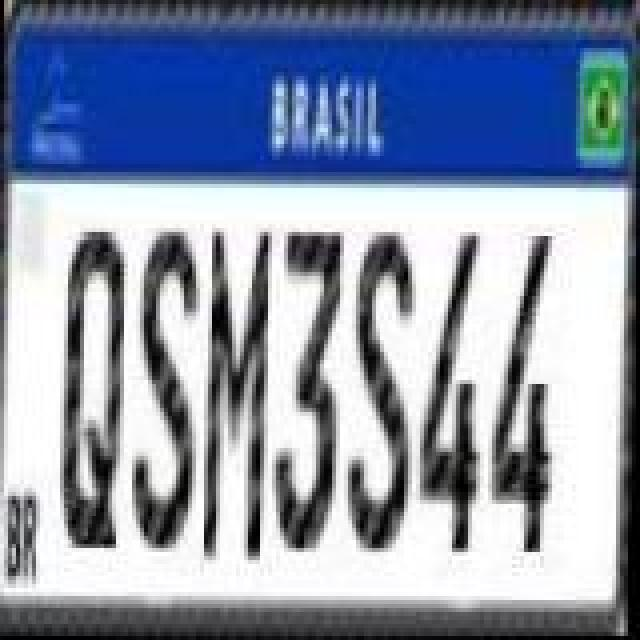3: (274, 228, 346, 552)
4: (414, 230, 486, 554), (488, 230, 556, 554)
M: (202, 228, 274, 564)
Q: (58, 226, 130, 550)
S: (132, 222, 208, 546), (346, 230, 418, 554)
